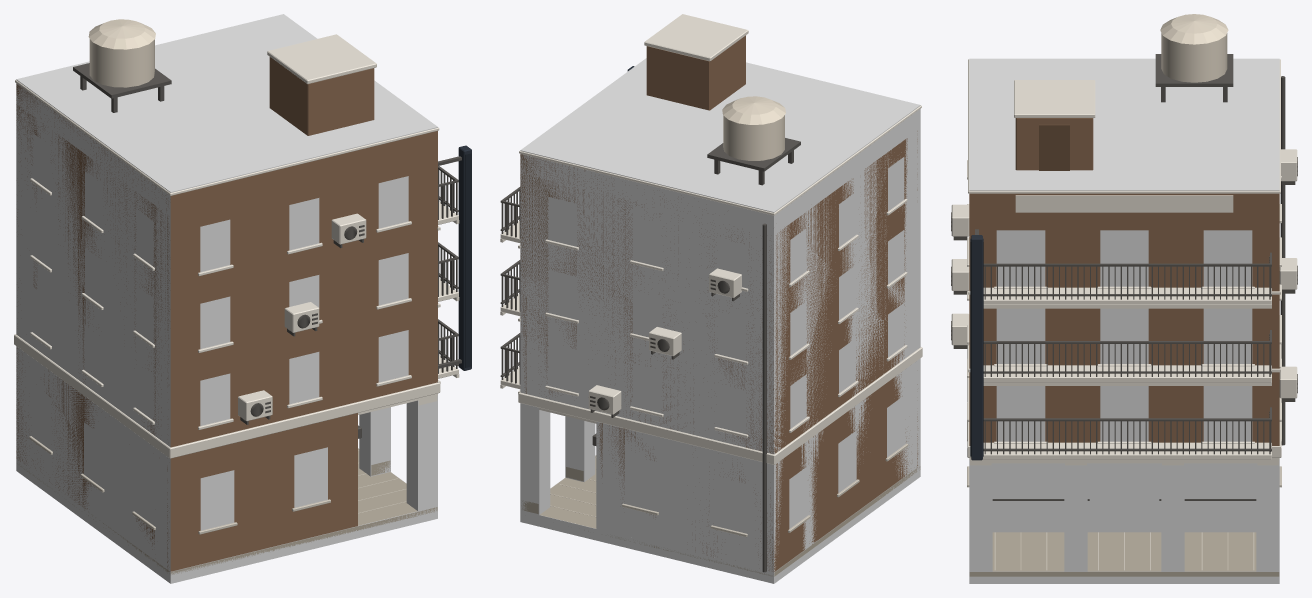
3 views of the same model, side by side, from view 1: azimuth 30°, elevation 25°; view 2: azimuth 150°, elevation 25°; view 3: azimuth 270°, elevation 25° (orthographic). The views are drawn at different scales.
Parts seen in each view (by area): view 1: T05_body, col_upper, col_ground, col_floor, col_arcade_-3.7, col_arcade_-1.2; view 2: col_upper, T05_body, col_ground, col_floor, col_arcade_+3.7, col_arcade_+1.2; view 3: T05_body, col_upper, col_ground, col_floor, col_arcade_+3.7, col_arcade_-3.7, col_arcade_+1.2, col_arcade_-1.2.
Boxes of the visible parts, left/top/right/bottom form: T05_body: left=14, top=19, right=471, bottom=574; col_upper: left=16, top=14, right=437, bottom=446; col_ground: left=16, top=346, right=327, bottom=571; col_floor: left=16, top=448, right=437, bottom=583; col_arcade_-3.7: left=406, top=395, right=437, bottom=511; col_arcade_-1.2: left=359, top=407, right=390, bottom=476; col_upper: left=520, top=58, right=920, bottom=454; T05_body: left=500, top=14, right=922, bottom=576; col_ground: left=596, top=358, right=920, bottom=571; col_floor: left=520, top=455, right=920, bottom=583; col_arcade_+3.7: left=520, top=403, right=550, bottom=514; col_arcade_+1.2: left=565, top=416, right=595, bottom=481; T05_body: left=951, top=14, right=1297, bottom=576; col_upper: left=969, top=58, right=1279, bottom=441; col_ground: left=992, top=463, right=1256, bottom=532; col_floor: left=969, top=571, right=1279, bottom=583; col_arcade_+3.7: left=1256, top=460, right=1279, bottom=571; col_arcade_-3.7: left=969, top=460, right=992, bottom=571; col_arcade_+1.2: left=1161, top=463, right=1184, bottom=571; col_arcade_-1.2: left=1064, top=463, right=1087, bottom=571.
Size of the model in its own units: 9.11 by 13.16 by 8.94.
